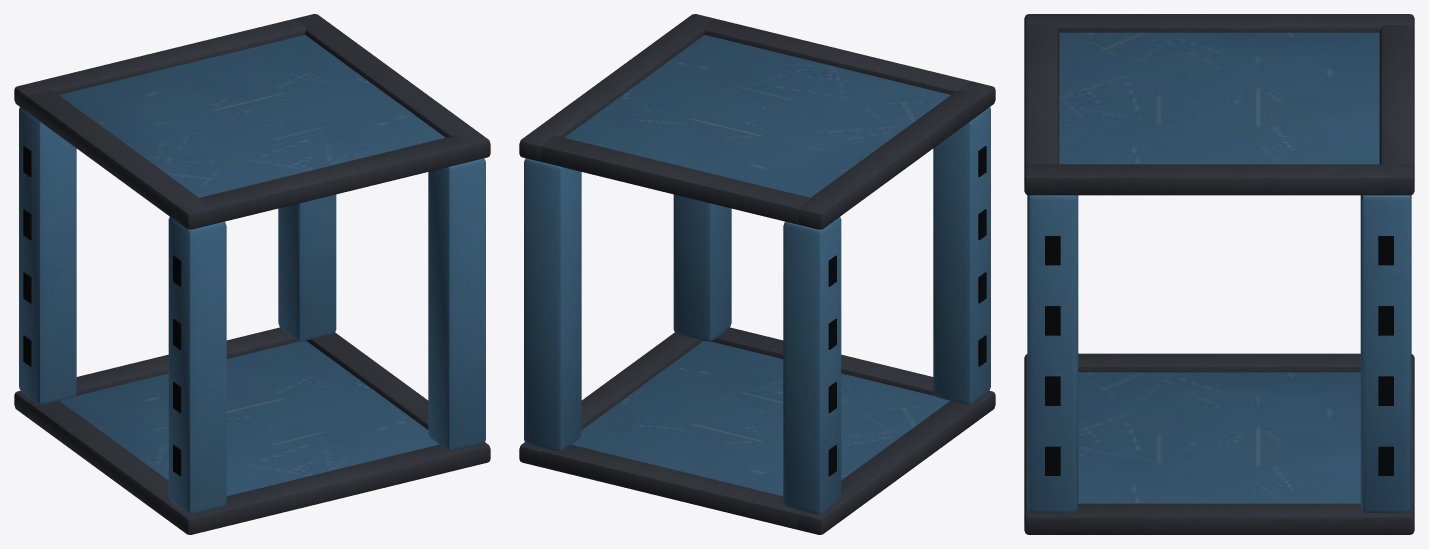
Rendered from shelf_support.glb.
The picture shows the model from 3 angles, left to right: view 1: azimuth 30°, elevation 25°; view 2: azimuth 150°, elevation 25°; view 3: azimuth 270°, elevation 25°; orthographic projection. The views are drawn at different scales.
Visible parts, largest first — view 1: ShelfSupportBody; view 2: ShelfSupportBody; view 3: ShelfSupportBody.
Boxes of the visible parts, box(x1,y1,x2,y2) form: ShelfSupportBody: box(14, 14, 490, 534); ShelfSupportBody: box(519, 14, 995, 534); ShelfSupportBody: box(1024, 14, 1414, 534).
Bounding box in the file's own units: 0.246 × 0.25 × 0.246.
4 materials, 3 textured.
